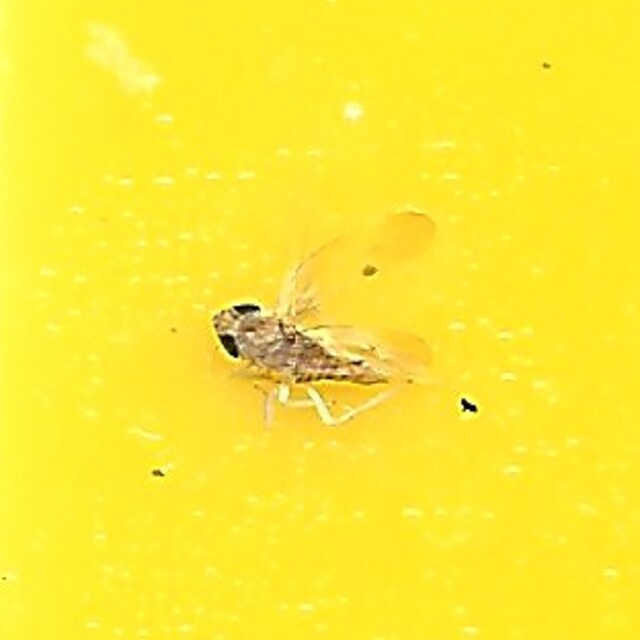Hemiptera: (205, 215, 435, 425)
